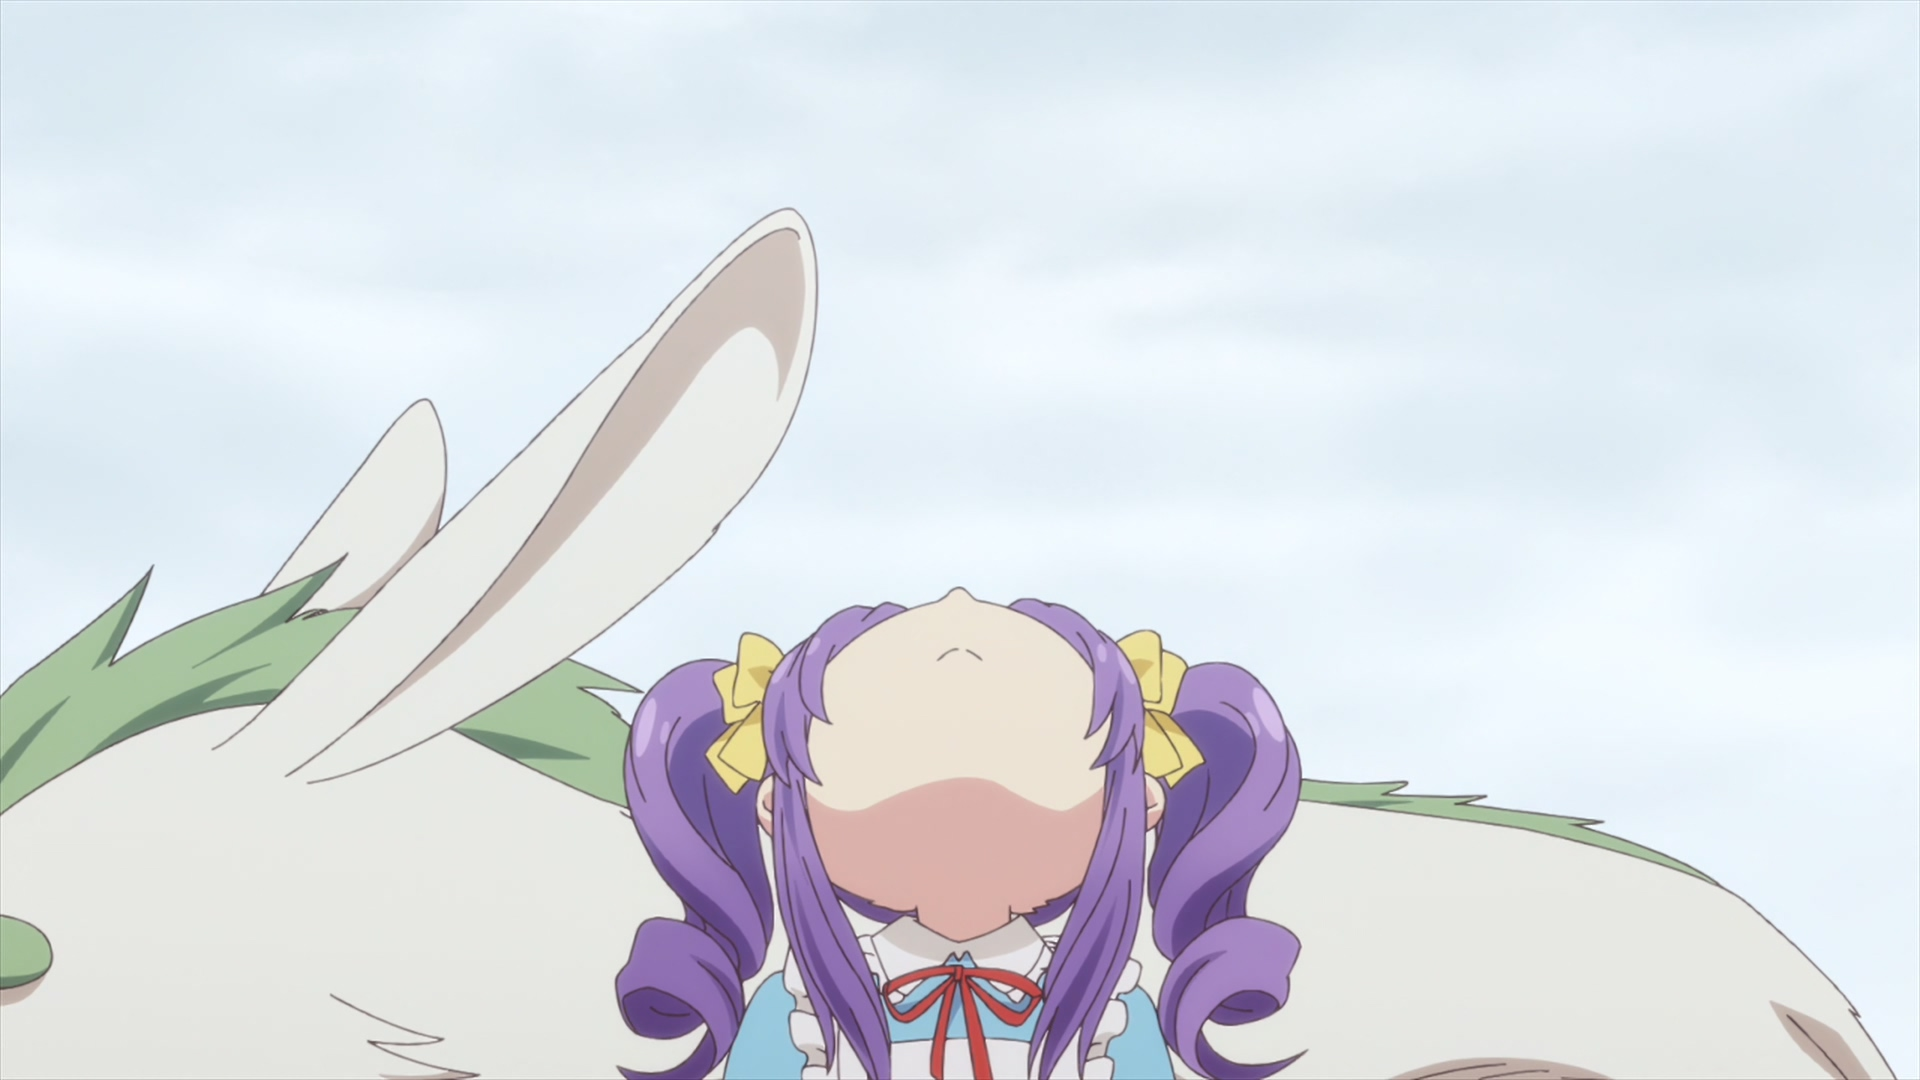瓜之介: (1, 206, 1896, 1080)
阿菊: (615, 585, 1305, 1080)
